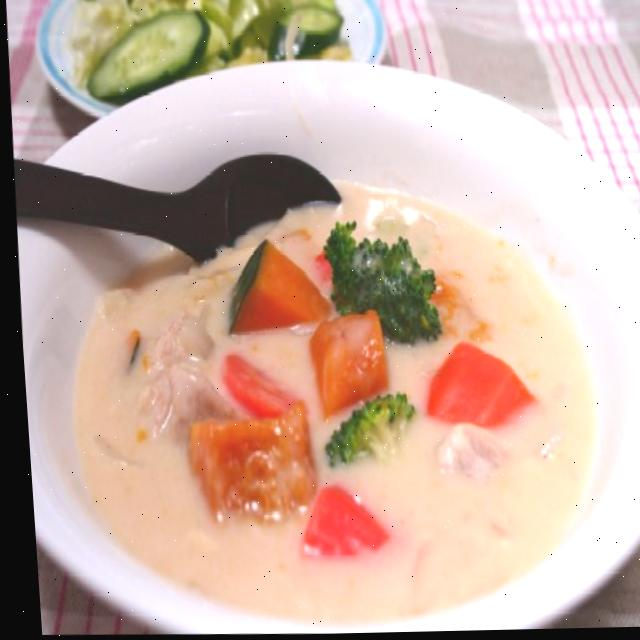汤锅炖物: (3, 41, 640, 640)
